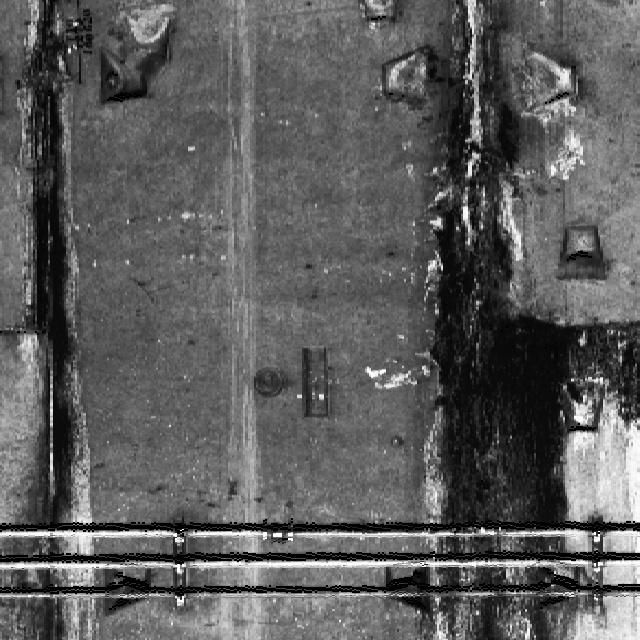leakage: (410, 0, 639, 639), (3, 0, 113, 636)
